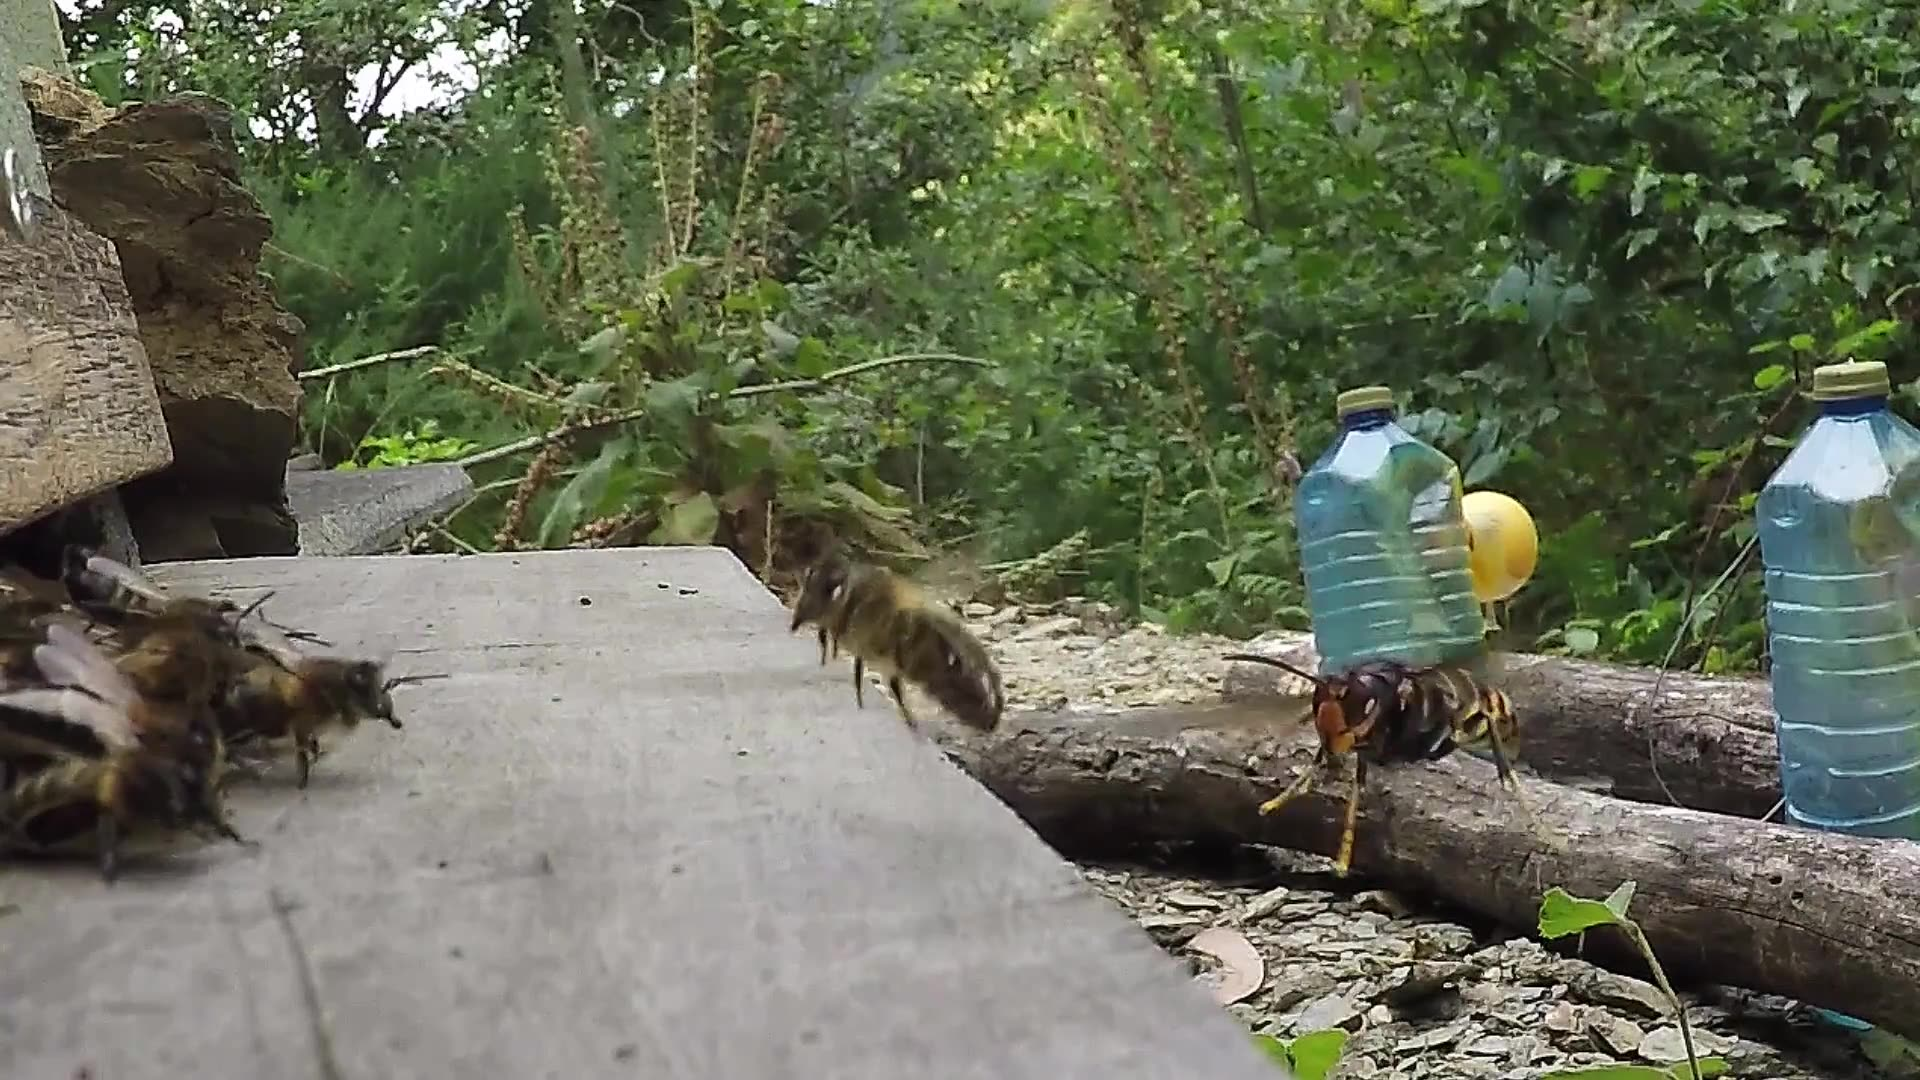bee: (1, 525, 426, 864), (767, 535, 1026, 746)
hornet: (1294, 636, 1538, 798)
